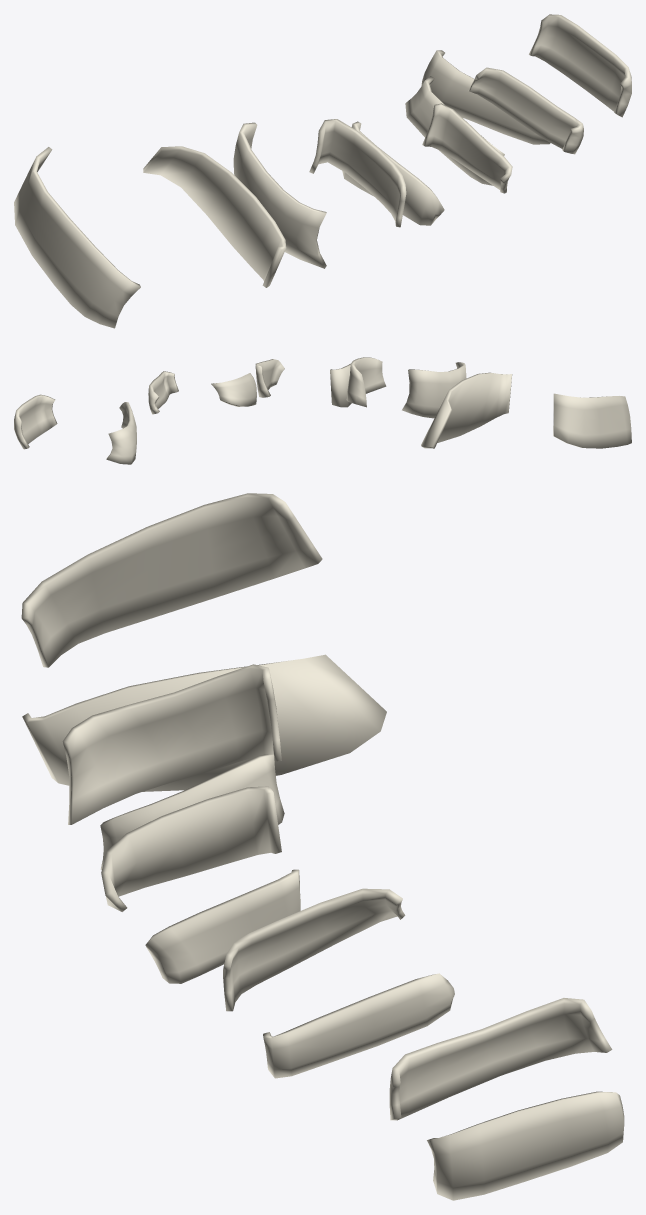
The picture shows the model from 3 angles, top to bottom: view 1: azimuth 30°, elevation 25°; view 2: azimuth 150°, elevation 25°; view 3: azimuth 270°, elevation 25°; orthographic projection. The views are drawn at different scales.
Visible parts, largest first — view 1: ZA_6fd18dd24e7cc081; view 2: ZA_6fd18dd24e7cc081; view 3: ZA_6fd18dd24e7cc081.
Part boxes in pixels (x1=…): ZA_6fd18dd24e7cc081: x1=14, y1=14, x2=631, y2=328; ZA_6fd18dd24e7cc081: x1=14, y1=357, x2=631, y2=464; ZA_6fd18dd24e7cc081: x1=21, y1=493, x2=624, y2=1200.
Bounding box in the file's own units: 0.0821 × 0.0189 × 0.0424.
